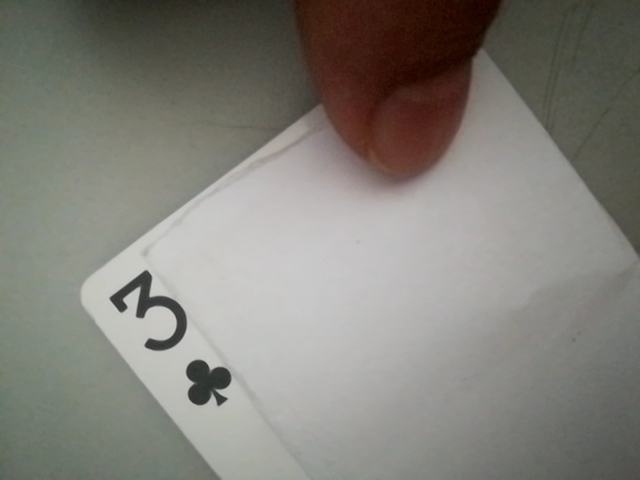mh 3: (95, 264, 241, 412)
